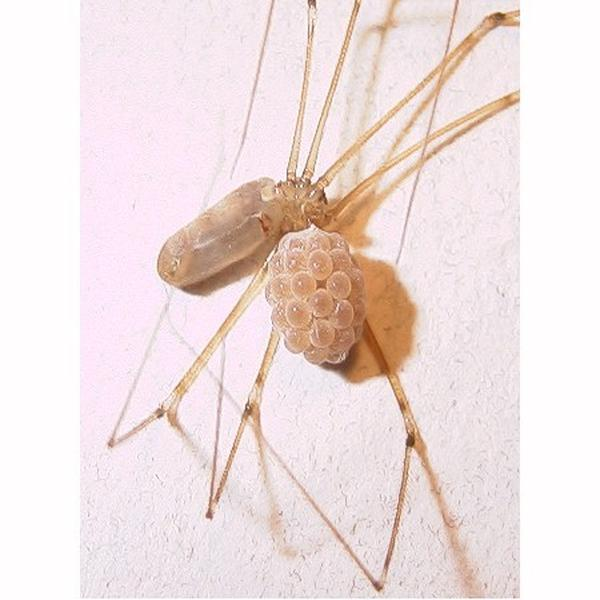Daddy Long Legs Spider: (110, 5, 516, 600)
